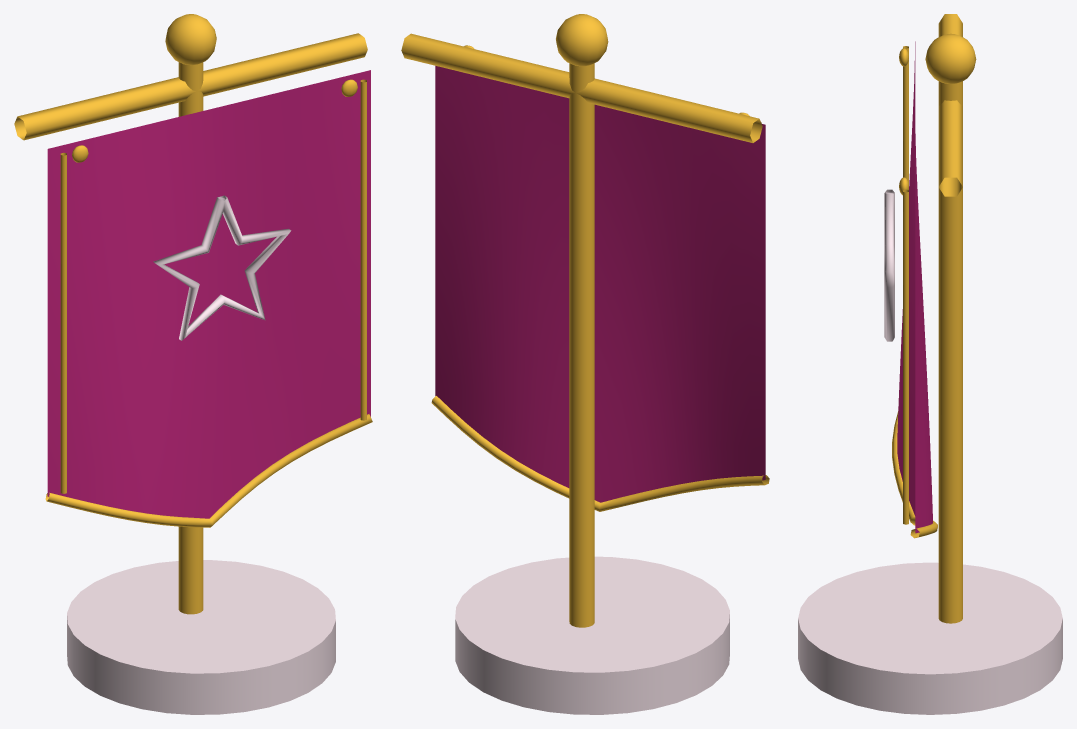
Rendered from chess.banner.crest.glb.
The picture shows the model from 3 angles, left to right: view 1: azimuth 30°, elevation 25°; view 2: azimuth 150°, elevation 25°; view 3: azimuth 270°, elevation 25°; orthographic projection. The views are drawn at different scales.
Parts seen in each view (by area): view 1: banner_cloth, banner_foot, crossbar, embroidered_crest, banner_hem, banner_pole, banner_edge_braid.001, banner_edge_braid, banner_finial; view 2: banner_cloth, banner_foot, banner_pole, crossbar, banner_hem, banner_finial; view 3: banner_foot, banner_pole, banner_cloth, crossbar, banner_finial, banner_edge_braid.001, embroidered_crest, banner_hem, banner_edge_braid.
Part boxes in pixels (bbox=[...]): banner_cloth: bbox=[47, 70, 370, 518]; banner_foot: bbox=[67, 560, 335, 714]; crossbar: bbox=[14, 33, 367, 140]; embroidered_crest: bbox=[153, 195, 291, 340]; banner_hem: bbox=[45, 414, 372, 527]; banner_pole: bbox=[178, 62, 203, 614]; banner_edge_braid.001: bbox=[360, 79, 366, 420]; banner_edge_braid: bbox=[60, 152, 66, 493]; banner_finial: bbox=[165, 14, 216, 65]; banner_cloth: bbox=[435, 66, 765, 502]; banner_foot: bbox=[455, 556, 729, 714]; banner_pole: bbox=[569, 63, 594, 627]; crossbar: bbox=[401, 33, 762, 142]; banner_hem: bbox=[431, 396, 769, 511]; banner_finial: bbox=[556, 14, 608, 66]; banner_foot: bbox=[798, 562, 1062, 714]; banner_pole: bbox=[938, 81, 962, 623]; banner_cloth: bbox=[897, 41, 932, 533]; crossbar: bbox=[938, 14, 962, 196]; banner_finial: bbox=[925, 33, 976, 83]; banner_edge_braid.001: bbox=[903, 189, 908, 524]; embroidered_crest: bbox=[884, 189, 894, 341]; banner_hem: bbox=[892, 411, 937, 538]; banner_edge_braid: bbox=[903, 46, 908, 189].
Bounding box in the file's own units: 0.4222 × 0.75 × 0.2889.
